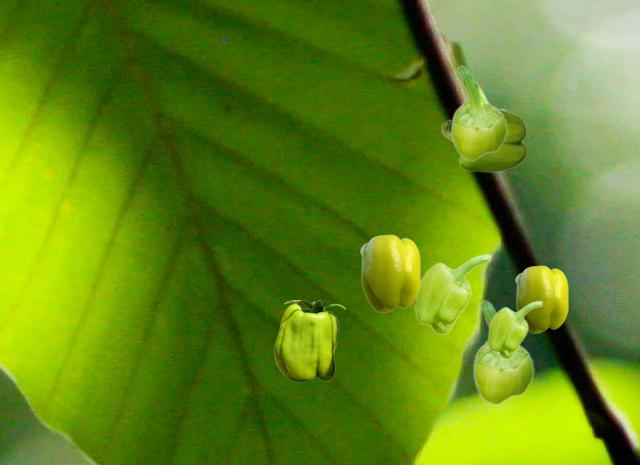bell_pepper: (472, 300, 534, 404), (414, 253, 491, 334), (274, 300, 344, 381), (450, 65, 507, 160), (441, 108, 526, 171), (360, 234, 419, 311), (515, 265, 567, 332), (487, 300, 542, 358)
